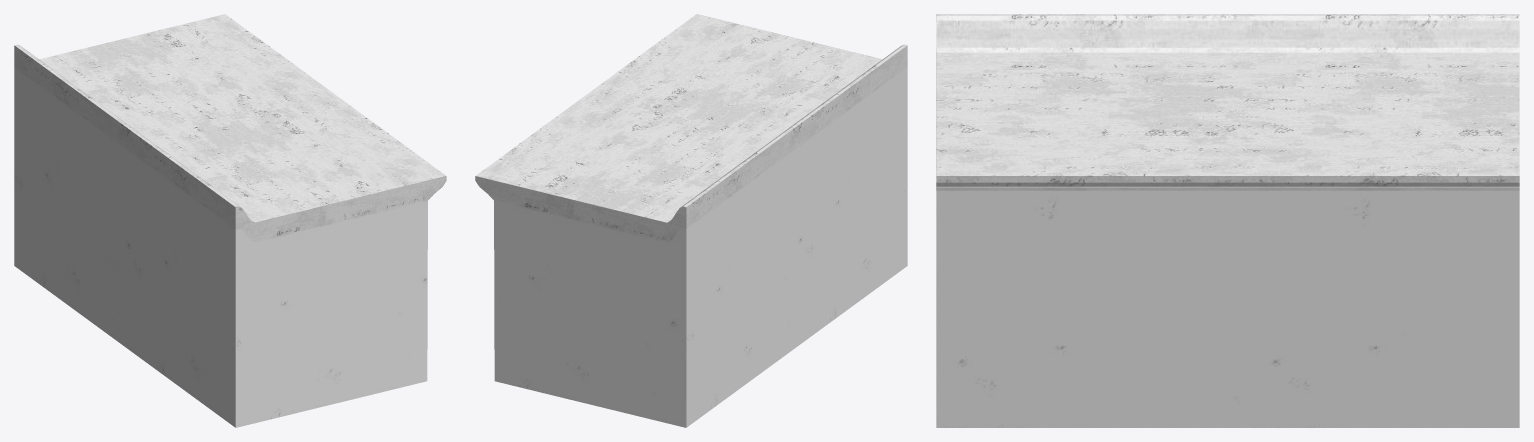
The model's file is table3.fbx.
The picture shows the model from 3 angles, left to right: view 1: azimuth 30°, elevation 25°; view 2: azimuth 150°, elevation 25°; view 3: azimuth 270°, elevation 25°; orthographic projection. The views are drawn at different scales.
Visible parts, largest first — view 1: Table3; view 2: Table3; view 3: Table3.
Boxes of the visible parts, x1,y1,x2,y2 form: Table3: (14,14,446,427); Table3: (475,14,907,427); Table3: (936,14,1519,427).
Size of the model in its own units: 110 by 110 by 200.
1 material, 1 textured.
